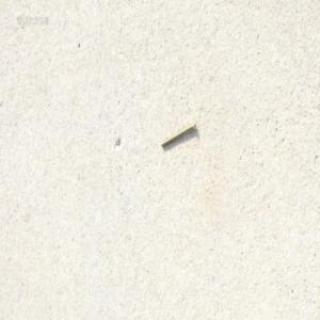Bolttrack_idkeyframe: (159, 118, 195, 148)
